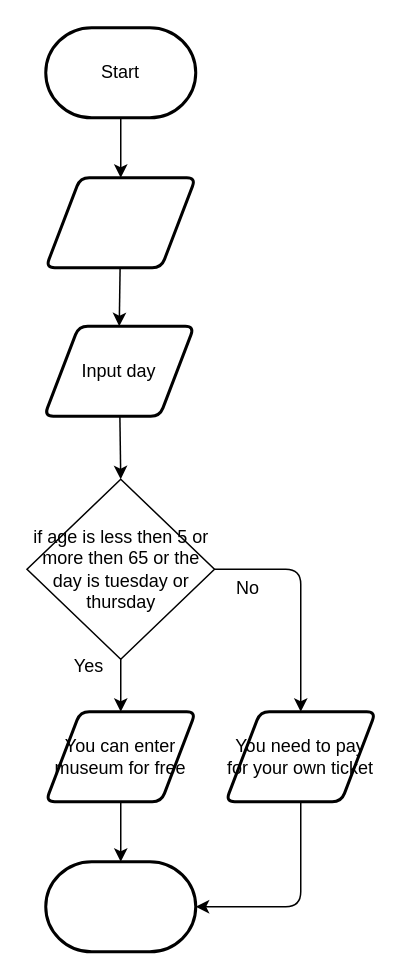
Some shapes in this 402 by 978 pixel diagram are drawn without their labels. Each missing label, with the centre of its shape:
"Input age" goes at [120,222].
"Stop" goes at [120,906].
